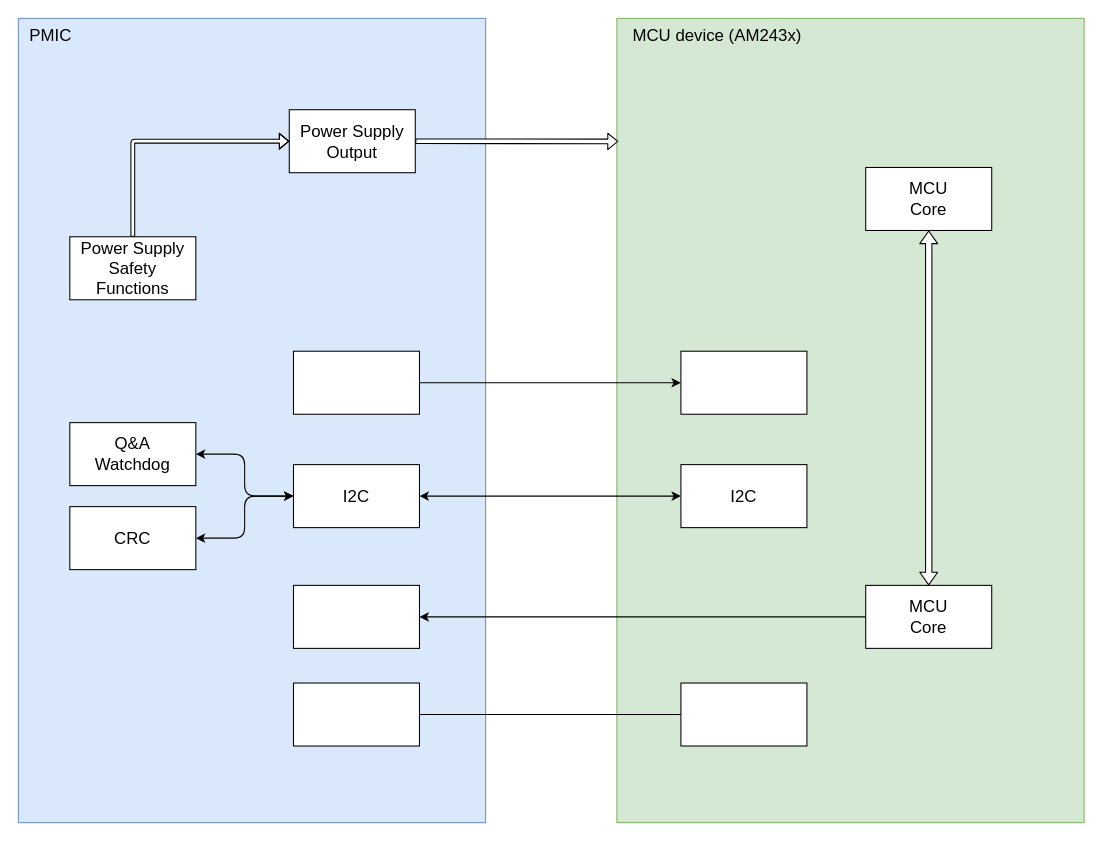
Some shapes in this 1103 by 841 pixel diagram are drawn without their labels. The centre of each missing label's shape, as x and y in pixels:
Interrupt: (355,382)
MCU Error Signal Monitor: (355,616)
MCU Reset: (355,714)
nINT: (743,382)
nRESET: (743,714)
